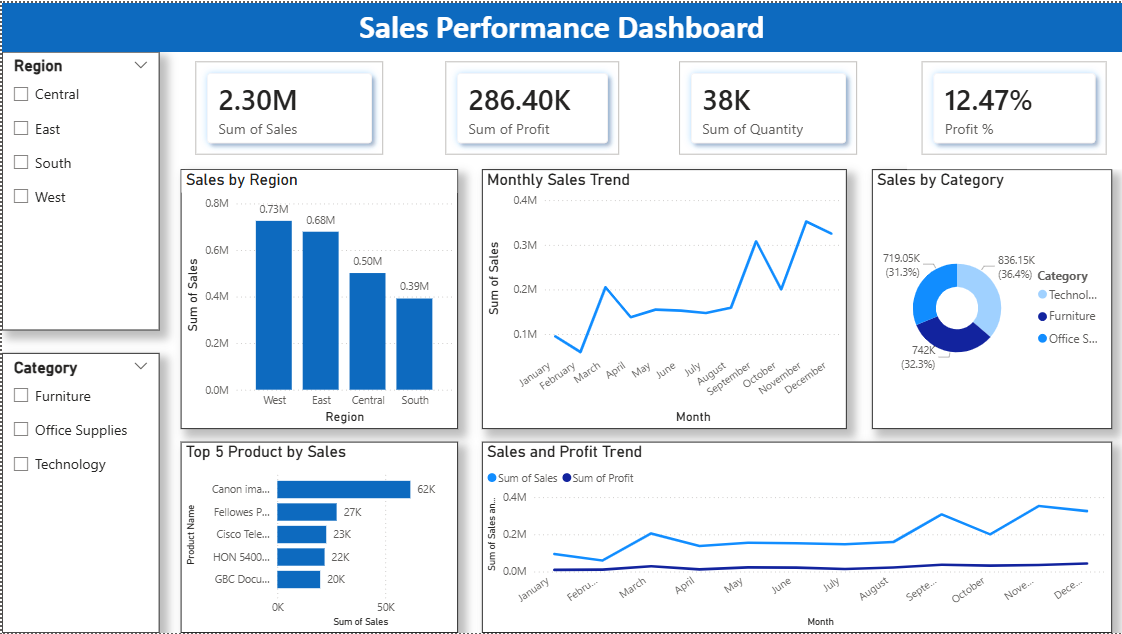

What the dashboard file says about the page in this screenshot:
{"tool":"powerbi","page":{"name":"Page 1","canvas":[1280,720],"ordinal":0},"visuals":[{"type":"cardVisual","fields":{"Data":["Sum(Sample - Superstore.Sales)"]},"box":[204.3,50,248.6,140],"z":0},{"type":"cardVisual","fields":{"Data":["Sum(Sample - Superstore.Profit)"]},"box":[490,50,232.9,140],"z":1000},{"type":"cardVisual","fields":{"Data":["Sum(Sample - Superstore.Quantity)"]},"box":[757.1,50,237.1,140],"z":2000},{"type":"clusteredColumnChart","title":"Sales by Region","fields":{"Category":["Sample - Superstore.Region"],"Y":["Sum(Sample - Superstore.Sales)"]},"box":[204.3,190,317.1,297.1],"z":3000},{"type":"lineChart","title":"Monthly Sales Trend","fields":{"Category":["Sample - Superstore.Order Date.Variation.Date Hierarchy.Month"],"Y":["Sum(Sample - Superstore.Sales)"]},"box":[548.6,190,417.1,297.1],"z":4000},{"type":"donutChart","title":"Sales by Category","fields":{"Category":["Sample - Superstore.Category"],"Y":["Sum(Sample - Superstore.Sales)"]},"box":[994.3,190,274.3,297.1],"z":5000},{"type":"barChart","title":"Top 5 Product by Sales","fields":{"Category":["Sample - Superstore.Product Name"],"Y":["Sum(Sample - Superstore.Sales)"]},"box":[204.3,501.4,317.1,218.6],"z":6000},{"type":"slicer","fields":{"Values":["Sample - Superstore.Region"]},"box":[0,55.7,180,318.6],"z":7000},{"type":"slicer","fields":{"Values":["Sample - Superstore.Category"]},"box":[0,400,180,320],"z":8000},{"type":"cardVisual","fields":{"Data":["Sample - Superstore.Profit %"]},"box":[1034.3,50,245.7,140],"z":9000},{"type":"textbox","box":[0,0,1280,55.7],"z":10000},{"type":"lineChart","title":"Sales and Profit Trend","fields":{"Y":["Sum(Sample - Superstore.Sales)","Sum(Sample - Superstore.Profit)"],"Category":["Sample - Superstore.Order Date.Variation.Date Hierarchy.Month"]},"box":[548.6,501.4,720,218.6],"z":11000}]}

Visuals, with their boxes in screenshot pixels (x1, y1, x2, y2), scaled from the page's 1280x720 canvas onto the 1122x634 screenshot:
cardVisual - Sum(Sample - Superstore.Sales): [179, 44, 397, 167]
cardVisual - Sum(Sample - Superstore.Profit): [430, 44, 634, 167]
cardVisual - Sum(Sample - Superstore.Quantity): [664, 44, 871, 167]
"Sales by Region" clusteredColumnChart: [179, 167, 457, 429]
"Monthly Sales Trend" lineChart: [481, 167, 846, 429]
"Sales by Category" donutChart: [872, 167, 1112, 429]
"Top 5 Product by Sales" barChart: [179, 442, 457, 633]
slicer - Sample - Superstore.Region: [0, 49, 158, 330]
slicer - Sample - Superstore.Category: [0, 352, 158, 633]
cardVisual - Sample - Superstore.Profit %: [907, 44, 1121, 167]
textbox: [0, 0, 1121, 49]
"Sales and Profit Trend" lineChart: [481, 442, 1112, 633]
